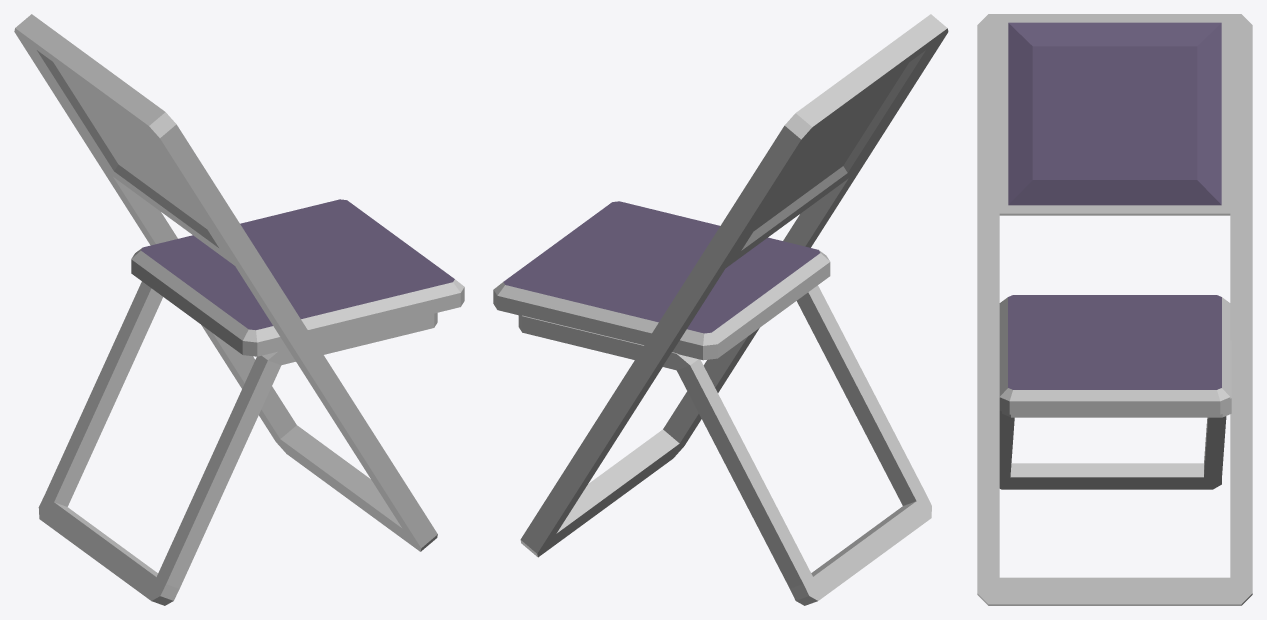
Rendered from model_folding_chair.fbx.
3 renders of one model, left to right at view 1: azimuth 30°, elevation 25°; view 2: azimuth 150°, elevation 25°; view 3: azimuth 270°, elevation 25°, orthographic. The views are drawn at different scales.
Parts seen in each view (by area): view 1: model_folding_chair; view 2: model_folding_chair; view 3: model_folding_chair.
Boxes of the visible parts, x1=… form: model_folding_chair: x1=14, y1=14, x2=464, y2=605; model_folding_chair: x1=493, y1=14, x2=948, y2=605; model_folding_chair: x1=977, y1=14, x2=1252, y2=605.
Size of the model in its own units: 86.02 by 126 by 66.41.
1 material, 1 textured.
